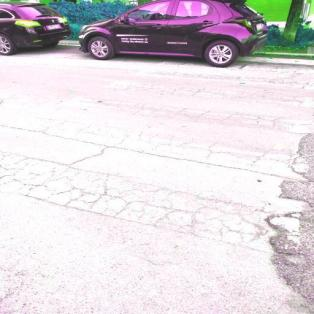Paso de Cebra: (40, 78, 314, 136)
